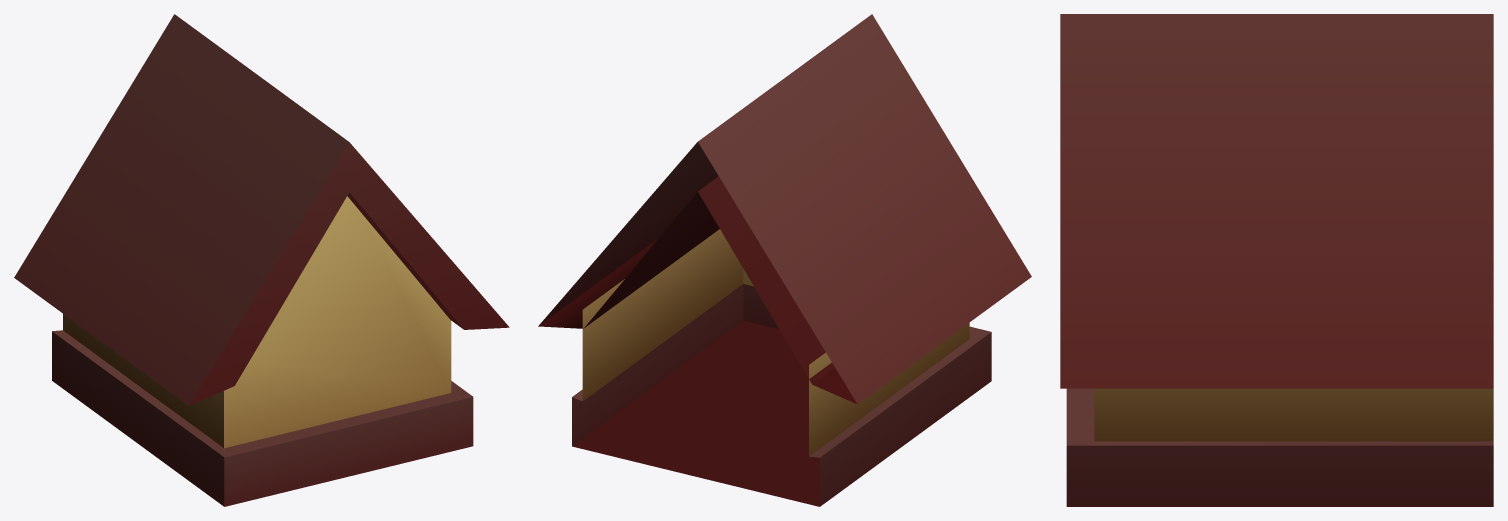
Rendered from Attic_01D.fbx.
The picture shows the model from 3 angles, left to right: view 1: azimuth 30°, elevation 25°; view 2: azimuth 150°, elevation 25°; view 3: azimuth 270°, elevation 25°; orthographic projection. The views are drawn at different scales.
Visible parts, largest first — view 1: Attic_01D; view 2: Attic_01D; view 3: Attic_01D.
Part boxes in pixels (bbox=[...]): Attic_01D: bbox=[14, 14, 509, 506]; Attic_01D: bbox=[538, 14, 1031, 506]; Attic_01D: bbox=[1060, 14, 1493, 506].
Size of the model in its own units: 213 by 214 by 201.
Materials: 2 (2 with a texture image).
